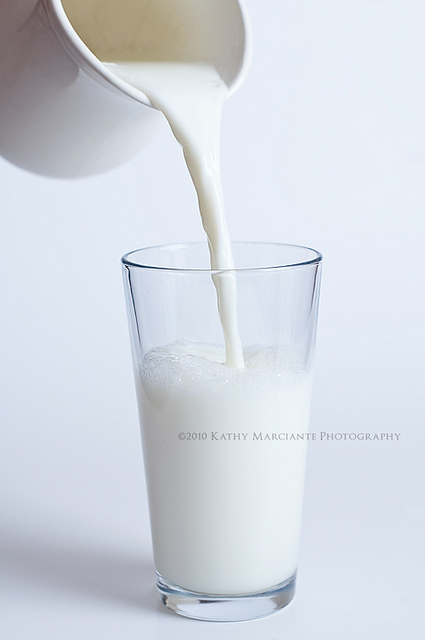glass of milk: (116, 224, 319, 629)
